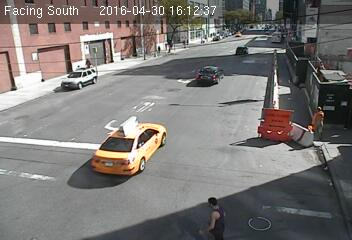neg: (48, 173, 78, 213), (25, 124, 53, 162), (265, 33, 293, 71), (284, 117, 311, 154), (191, 123, 216, 156), (133, 120, 157, 151), (123, 67, 147, 98), (246, 202, 270, 233), (209, 63, 232, 94), (312, 181, 334, 210), (62, 76, 83, 103), (50, 32, 70, 59), (167, 55, 187, 80), (255, 85, 271, 107)
pos: (195, 193, 228, 236)
